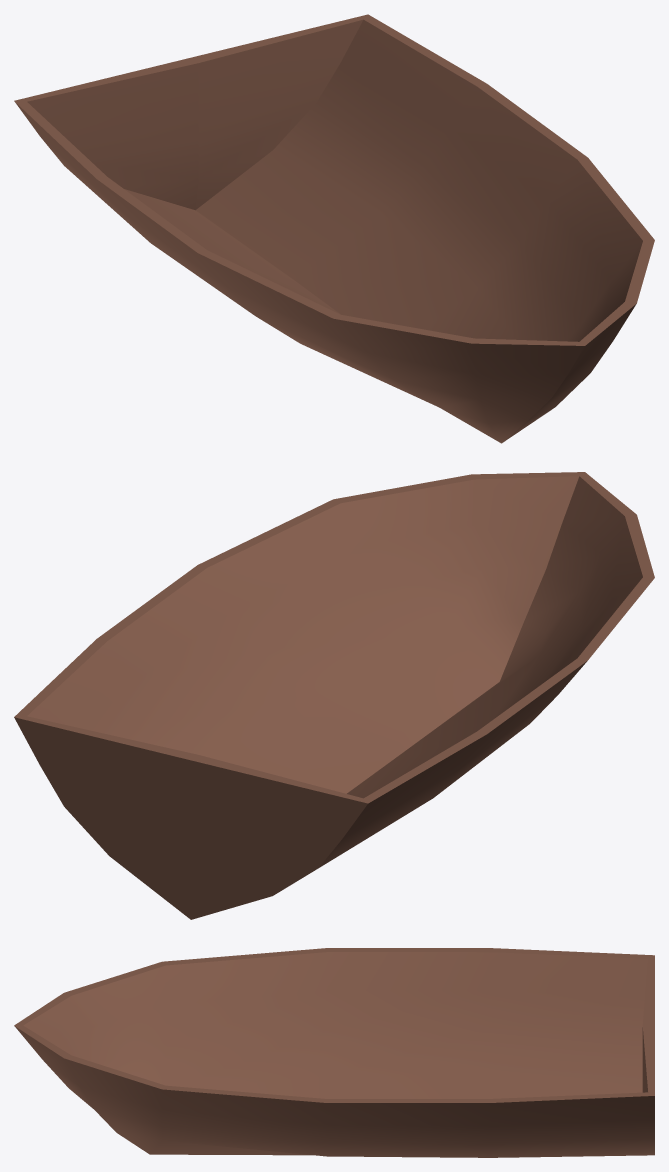
File: Boat.fbx
3 renders of one model, top to bottom at view 1: azimuth 30°, elevation 25°; view 2: azimuth 150°, elevation 25°; view 3: azimuth 270°, elevation 25°, orthographic. The views are drawn at different scales.
Visible parts, largest first — view 1: Cube; view 2: Cube; view 3: Cube.
Boxes of the visible parts, left/top/right/bottom form: Cube: left=14, top=14, right=654, bottom=443; Cube: left=14, top=472, right=654, bottom=919; Cube: left=14, top=948, right=654, bottom=1157.
Size of the model in its own units: 149 by 58.16 by 260.
